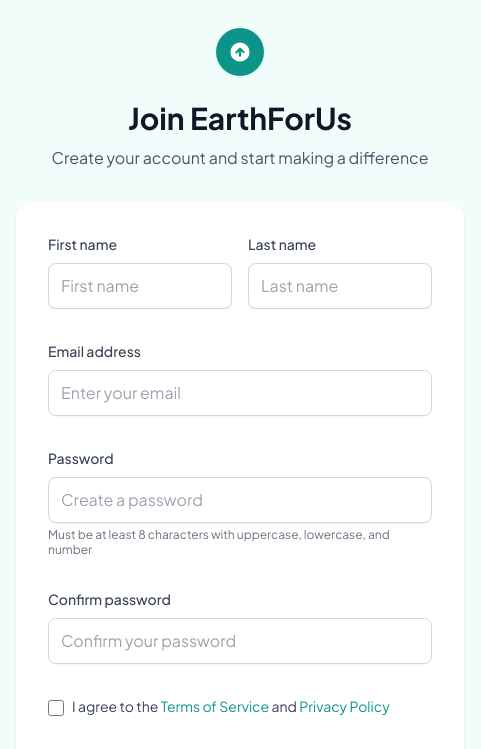
SignupPage Component › Form Validation › should show confirm password validation error when passwords do not match
In the password field labelled "Password": (240, 500) [48, 476, 432, 522], type "password123"
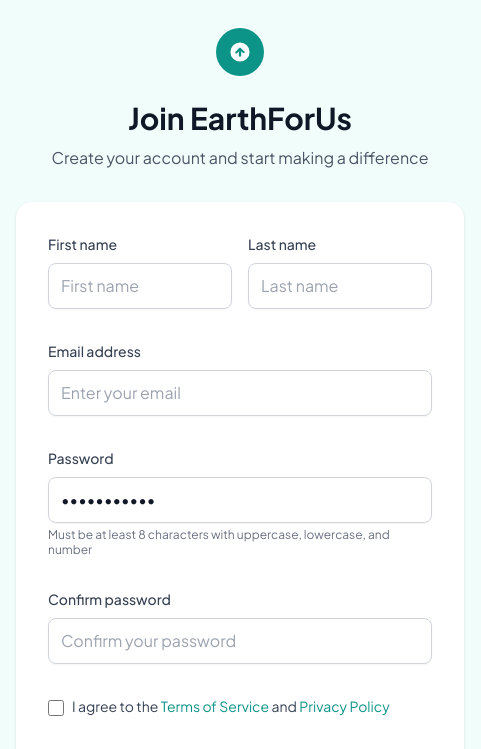
In the password field labelled "Confirm password": (240, 640) [48, 618, 432, 664], type "different123"
(page scrolled)
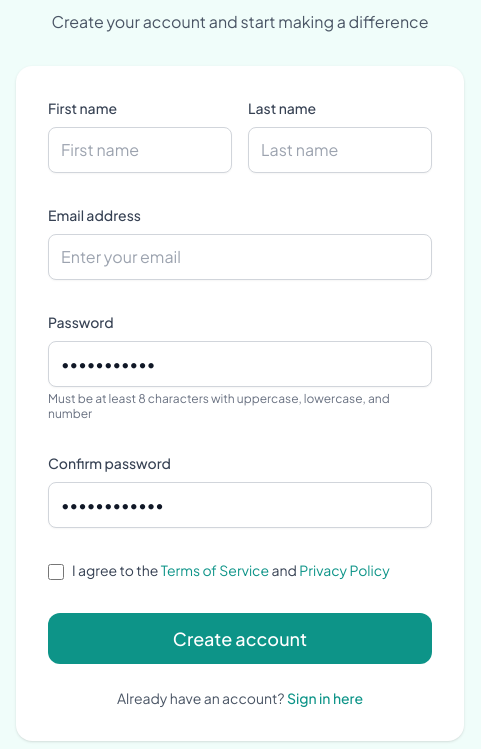
Submit the form
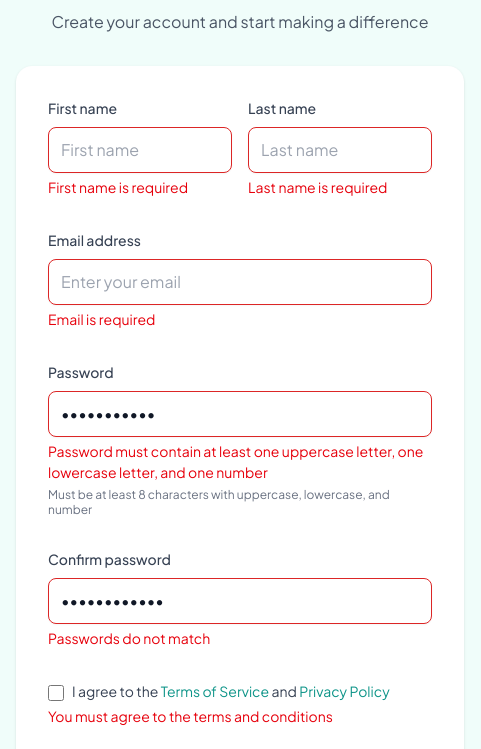
Check: the text "Passwords do not match" is shown, box [48, 628, 210, 646]
